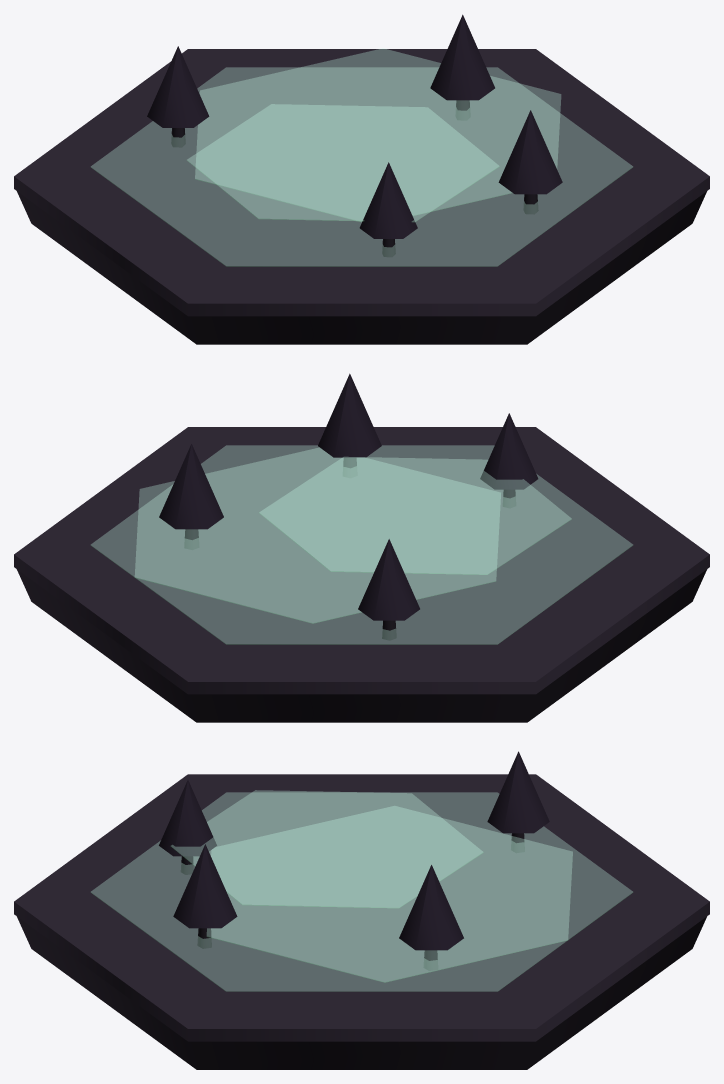
File: tile_fog.glb
3 renders of one model, top to bottom at view 1: azimuth 30°, elevation 25°; view 2: azimuth 150°, elevation 25°; view 3: azimuth 270°, elevation 25°, orthographic.
Parts seen in each view (by area): view 1: ground, fog_layer_0, fog_layer_1, fog_layer_2, ground_soil, deco_silhouette_0_crown, deco_silhouette_3_crown, deco_silhouette_1_crown, deco_silhouette_2_crown; view 2: ground, fog_layer_0, fog_layer_1, fog_layer_2, ground_soil, deco_silhouette_0_crown, deco_silhouette_3_crown, deco_silhouette_1_crown, deco_silhouette_2_crown; view 3: ground, fog_layer_0, fog_layer_1, fog_layer_2, ground_soil, deco_silhouette_0_crown, deco_silhouette_3_crown, deco_silhouette_1_crown, deco_silhouette_2_crown.
Part boxes in pixels (x1,y1,x2,y2): ground: (14,49,709,316); fog_layer_0: (91,67,632,266); fog_layer_1: (195,48,560,221); fog_layer_2: (187,104,499,221); ground_soil: (17,191,706,344); deco_silhouette_0_crown: (430,14,494,100); deco_silhouette_3_crown: (498,110,562,194); deco_silhouette_1_crown: (147,46,209,127); deco_silhouette_2_crown: (359,162,417,238); ground: (14,427,709,694); fog_layer_0: (91,445,632,644); fog_layer_1: (135,447,500,623); fog_layer_2: (259,457,571,574); ground_soil: (16,569,707,722); deco_silhouette_0_crown: (159,444,223,529); deco_silhouette_3_crown: (318,373,381,457); deco_silhouette_1_crown: (358,539,419,620); deco_silhouette_2_crown: (480,413,538,489); ground: (14,774,709,1041); fog_layer_0: (91,792,632,991); fog_layer_1: (207,806,572,982); fog_layer_2: (171,790,483,907); ground_soil: (17,916,706,1069); deco_silhouette_0_crown: (399,865,463,950); deco_silhouette_3_crown: (173,844,237,928); deco_silhouette_1_crown: (487,751,549,833); deco_silhouette_2_crown: (159,780,216,856).
Size of the model in its own units: 1.73 by 0.478 by 2.
